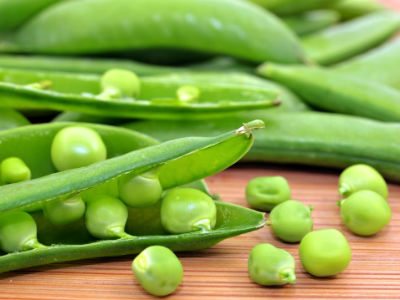boiled peas: (243, 221, 350, 283), (61, 194, 243, 226), (124, 233, 191, 300), (324, 169, 397, 228), (45, 130, 108, 164)
